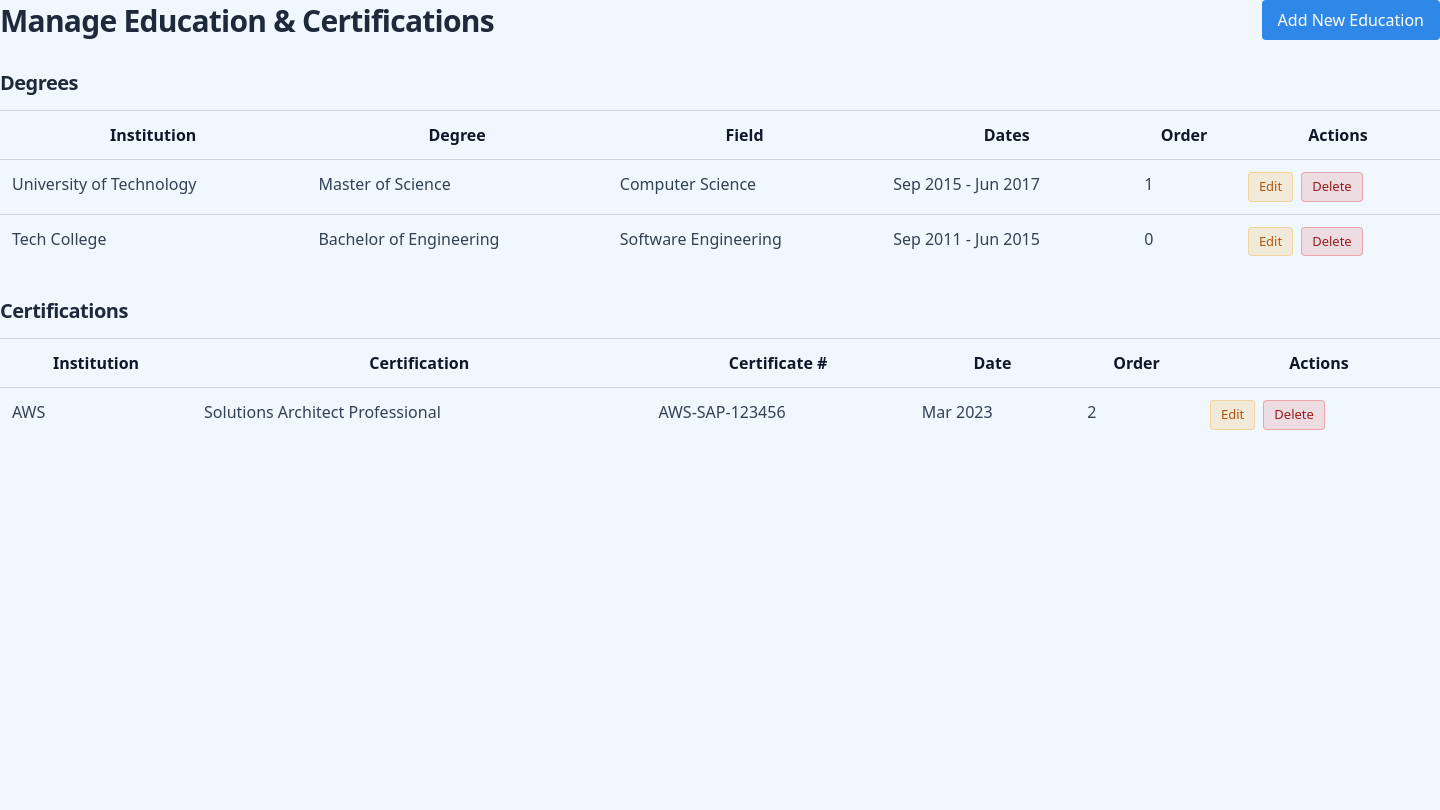
Test case: AdminEducation › Add Form › should show modal when add button is clicked
Click the button "Add New Education". click: point(1351, 20)
box: [1262, 0, 1439, 40]
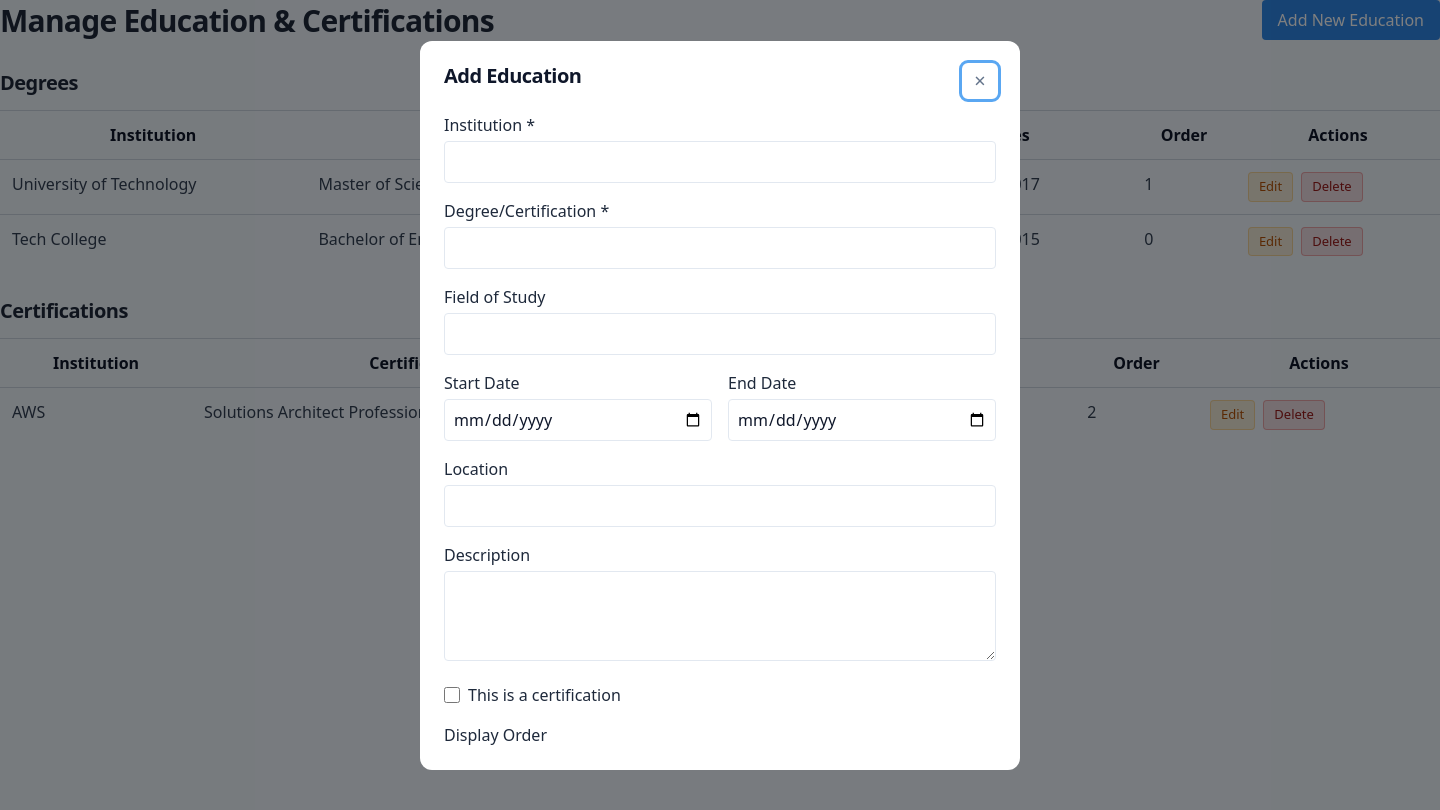
Check: the dialog with class "modal-overlay" is shown
Check: the heading "Add Education" is shown, box [444, 64, 582, 86]
